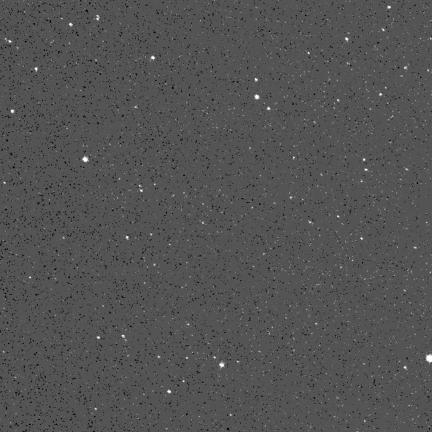blob: (426, 354, 431, 363), (219, 362, 224, 368), (83, 157, 88, 162), (387, 6, 392, 10), (254, 95, 259, 99), (267, 107, 271, 111), (69, 23, 73, 27), (379, 93, 383, 97), (97, 336, 101, 340), (365, 169, 369, 172), (34, 67, 37, 71), (151, 56, 155, 59), (345, 37, 348, 41), (97, 15, 99, 20), (255, 79, 258, 82), (168, 390, 171, 393), (11, 110, 14, 113), (126, 236, 129, 239), (122, 335, 125, 338)
